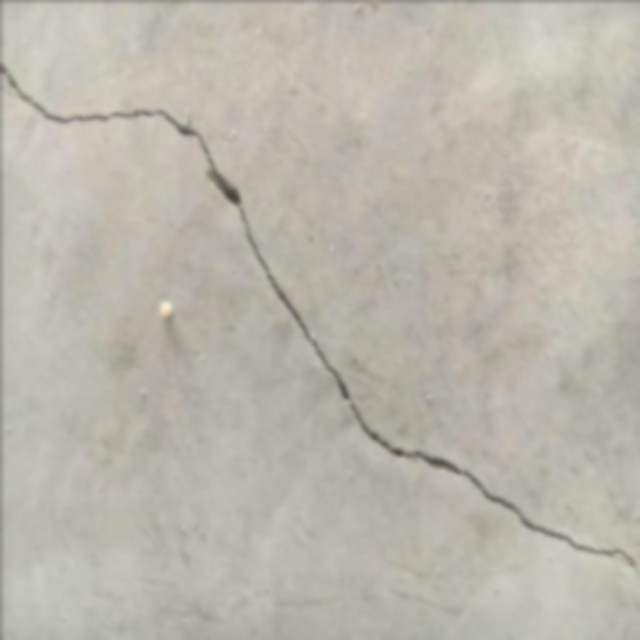SurfaceCrack: (0, 1, 639, 636)
